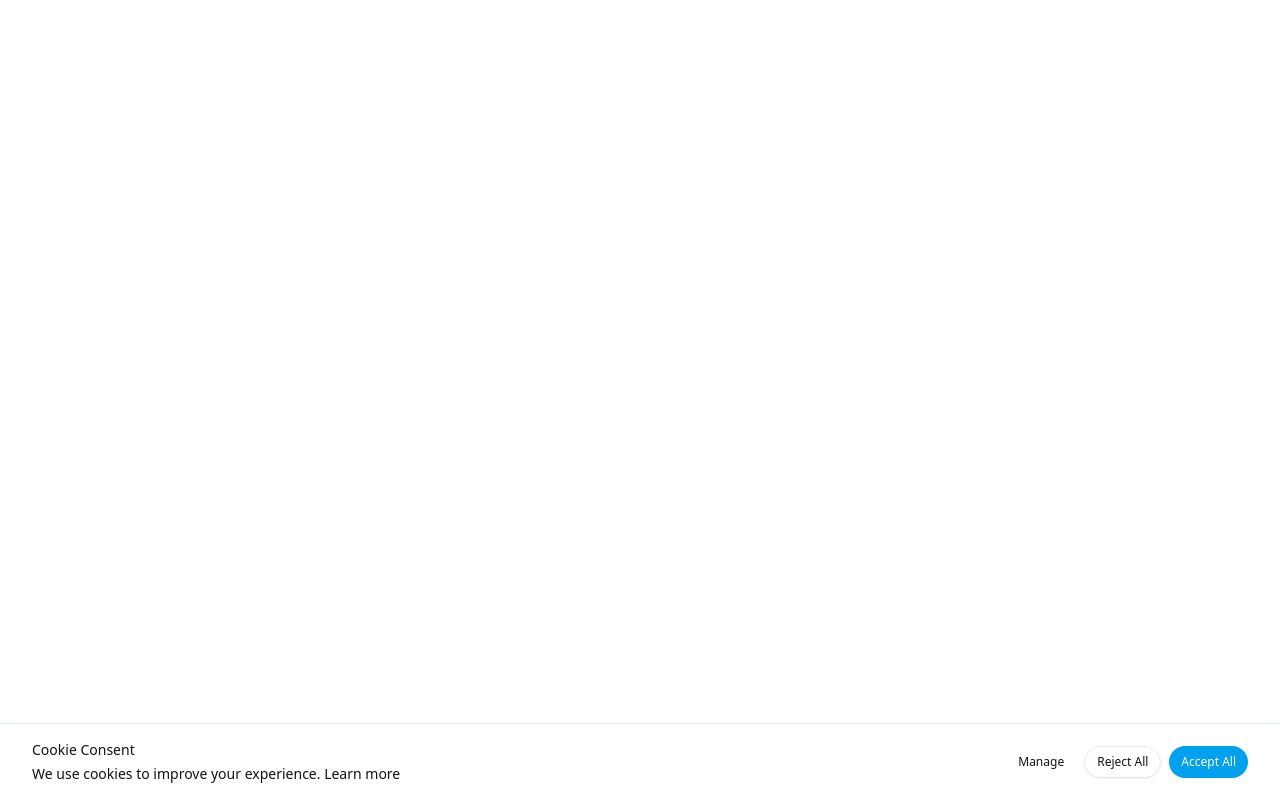
Test: CookieBanner › preferences panel › shows preferences panel when Manage is clicked
The width and height of the screenshot is (1280, 800).
Click the button "Manage": (1041, 762) left=1006, top=746, right=1076, bottom=778
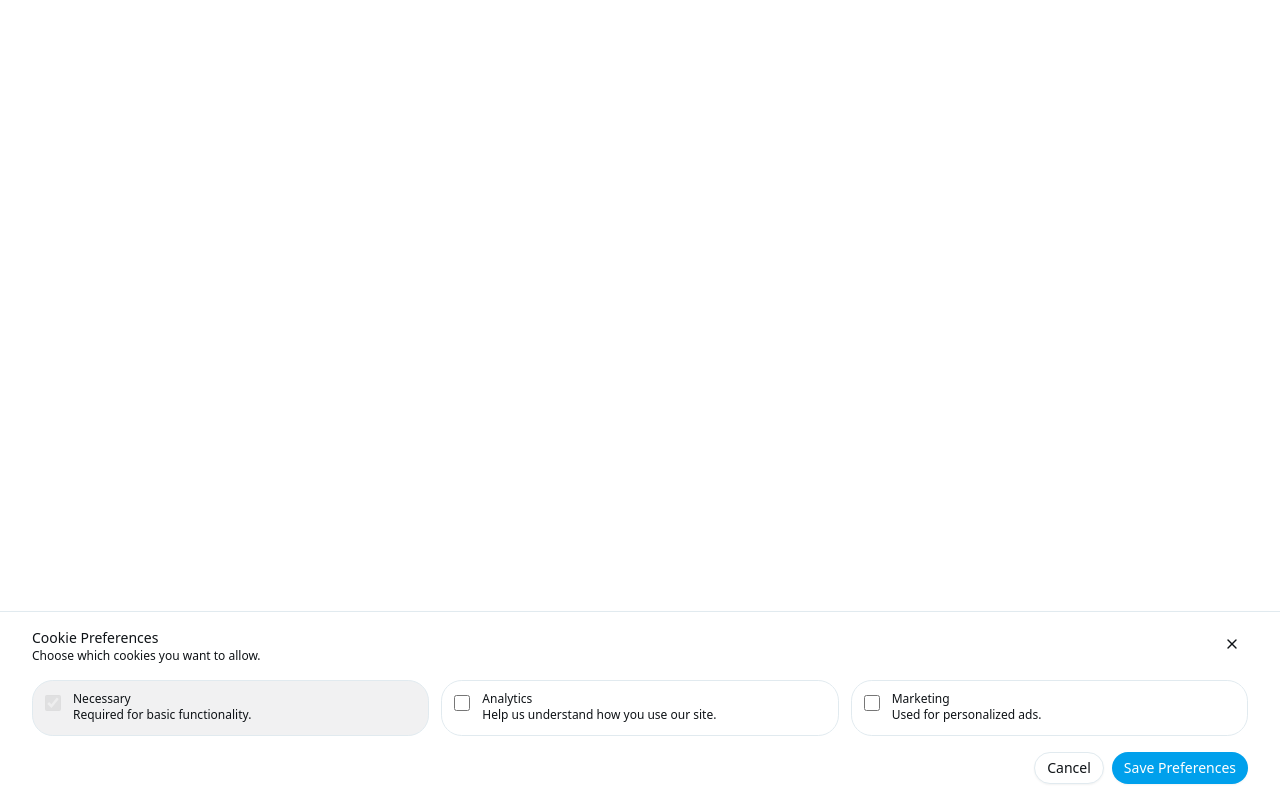
Now the text "Cookie Preferences" is shown, box left=32, top=628, right=158, bottom=647
